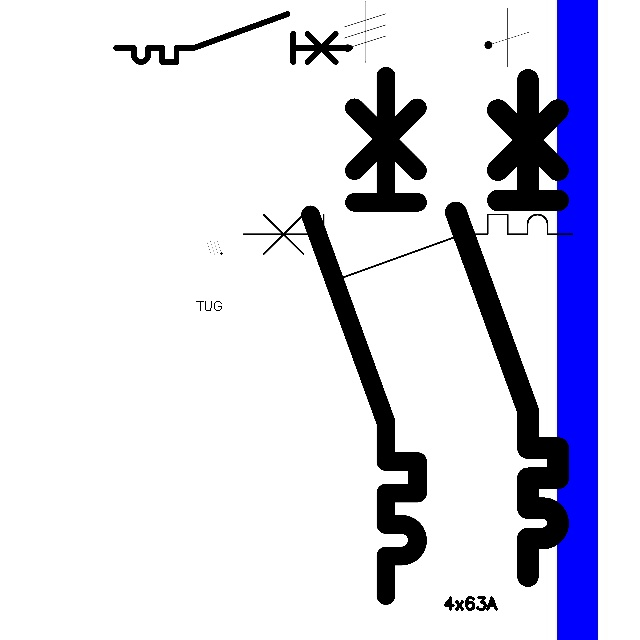interruptor_termomagnetico: (297, 62, 431, 608), (443, 67, 571, 589), (235, 206, 581, 290), (110, 8, 356, 68)
